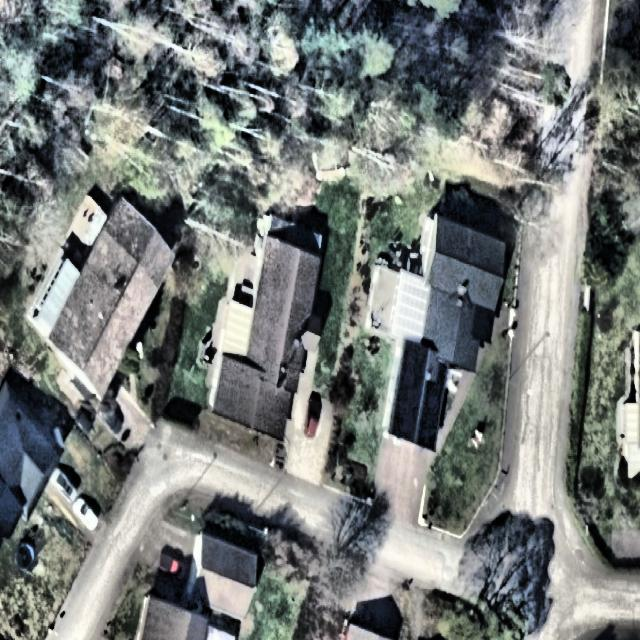roof_pv: (391, 383, 424, 442), (397, 339, 429, 381), (420, 402, 442, 450), (424, 382, 443, 404), (435, 358, 449, 383)
